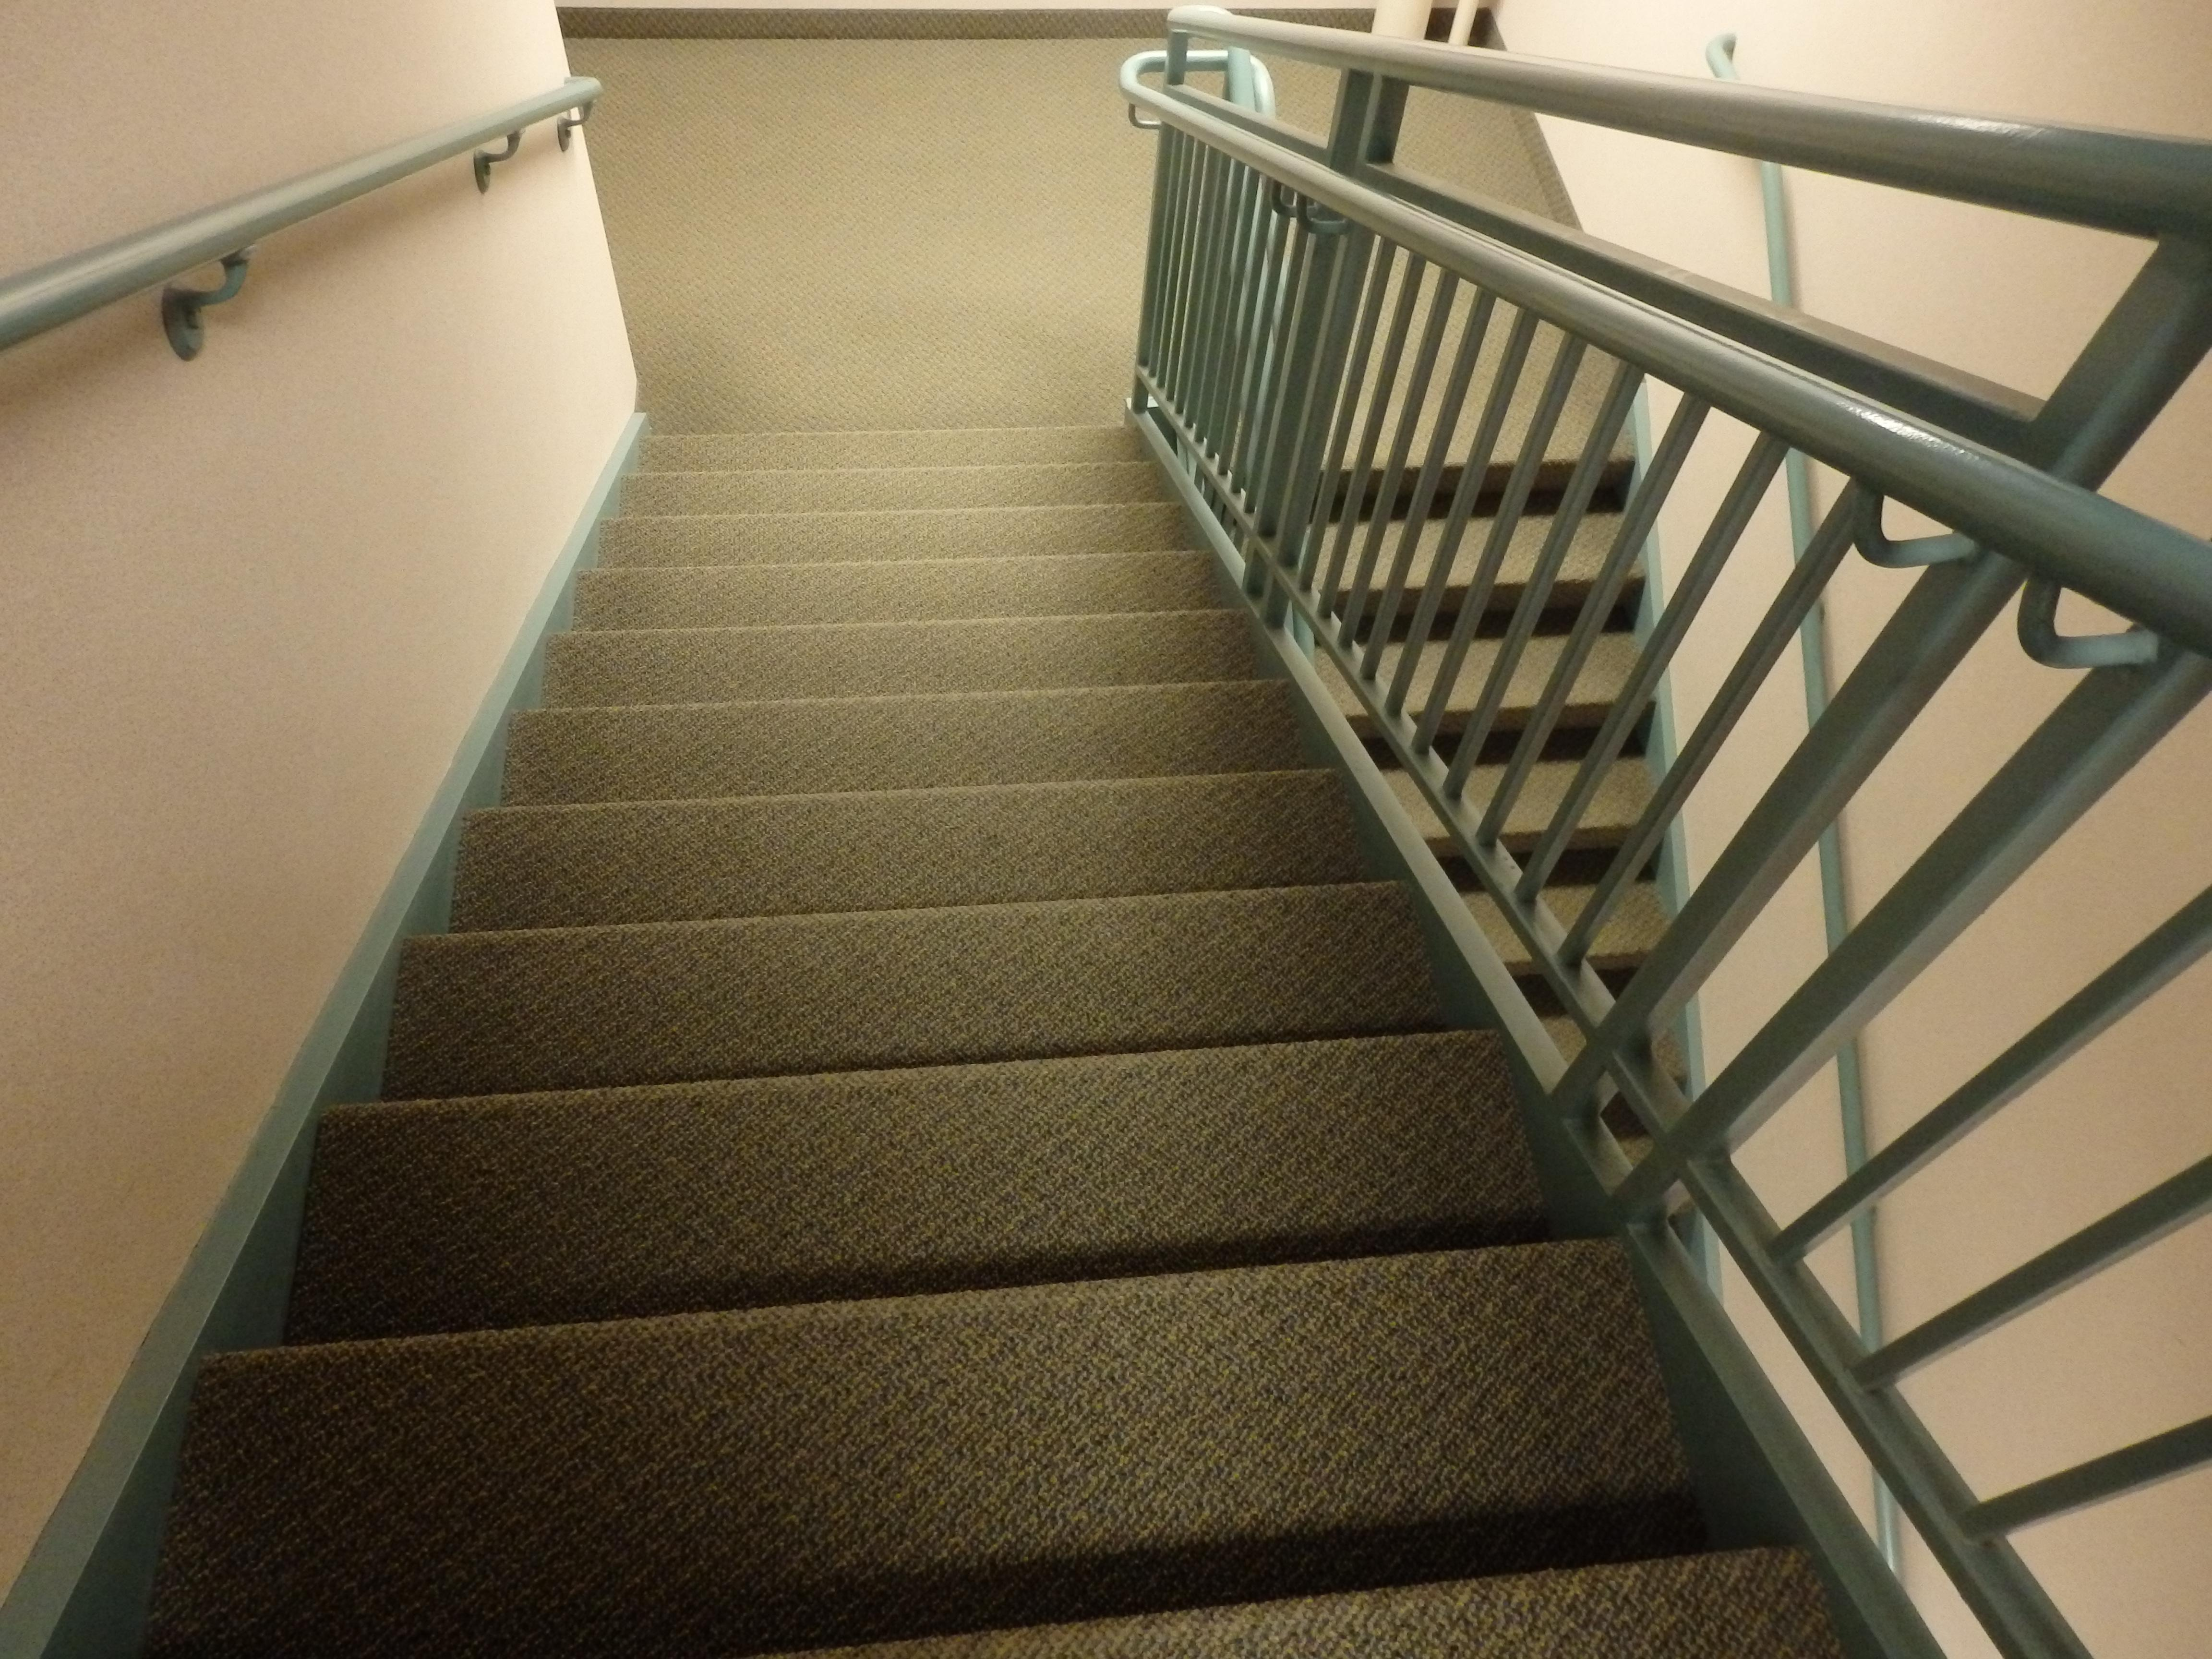stairs_down: (327, 418, 1487, 1577)
